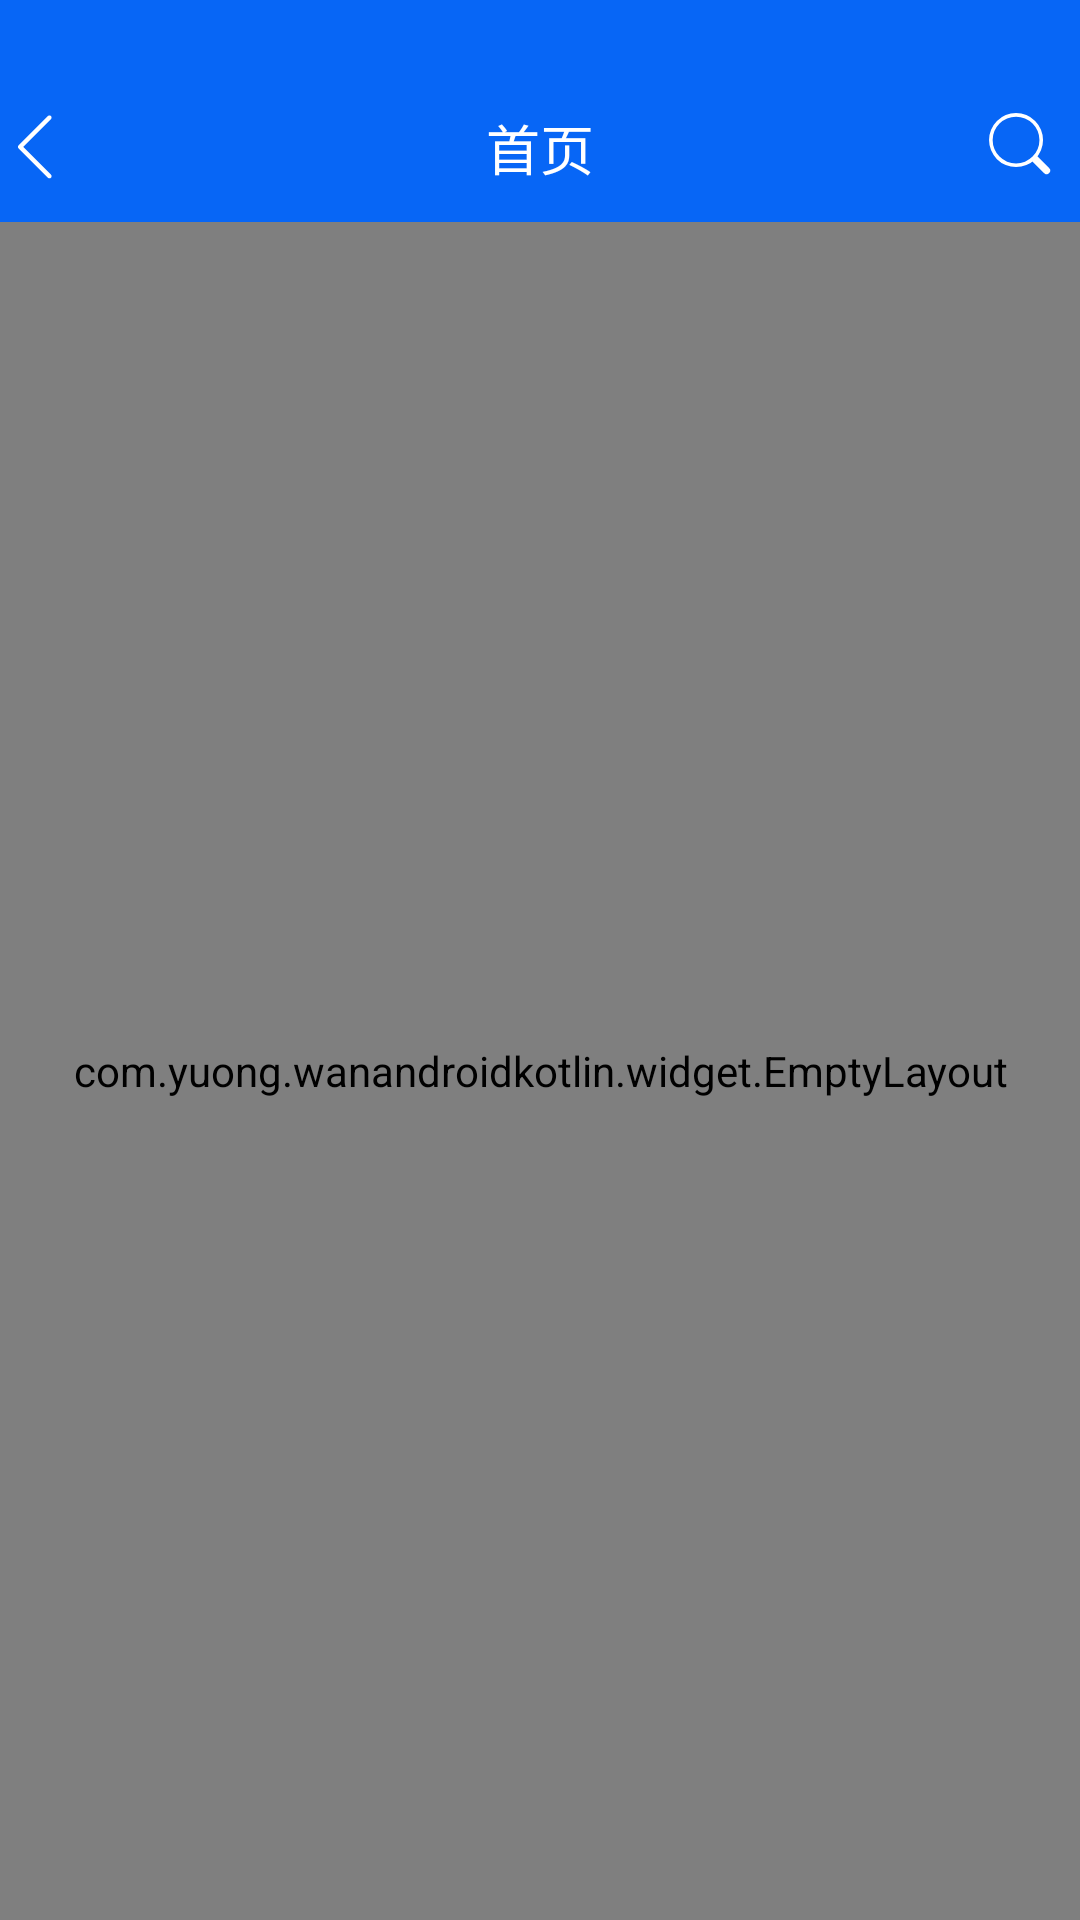

Locate icon controls on the screen. Image size 1080 × 1920, boxes as (x1, y1, x2, y2).
back: (18, 115, 52, 179)
search: (989, 113, 1051, 175)
